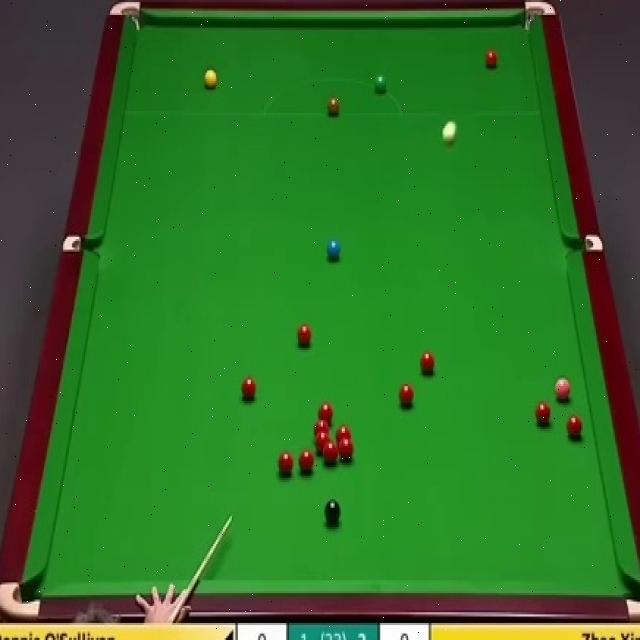black-ball: (324, 498, 341, 526)
blue-ball: (326, 239, 341, 258)
brown-ball: (326, 98, 341, 116)
green-ball: (376, 78, 390, 99)
pink-ball: (553, 377, 573, 404)
red-ball: (534, 400, 554, 428), (295, 325, 316, 351), (322, 442, 338, 468), (338, 438, 356, 461), (566, 413, 582, 437), (278, 452, 295, 474), (240, 378, 256, 400), (299, 450, 314, 472), (398, 385, 413, 407), (314, 434, 329, 454), (336, 425, 351, 444), (320, 402, 331, 425), (422, 353, 434, 374), (315, 423, 328, 441), (484, 49, 498, 65)
white-ball: (441, 119, 457, 145)
yellow-ball: (203, 68, 217, 90)
